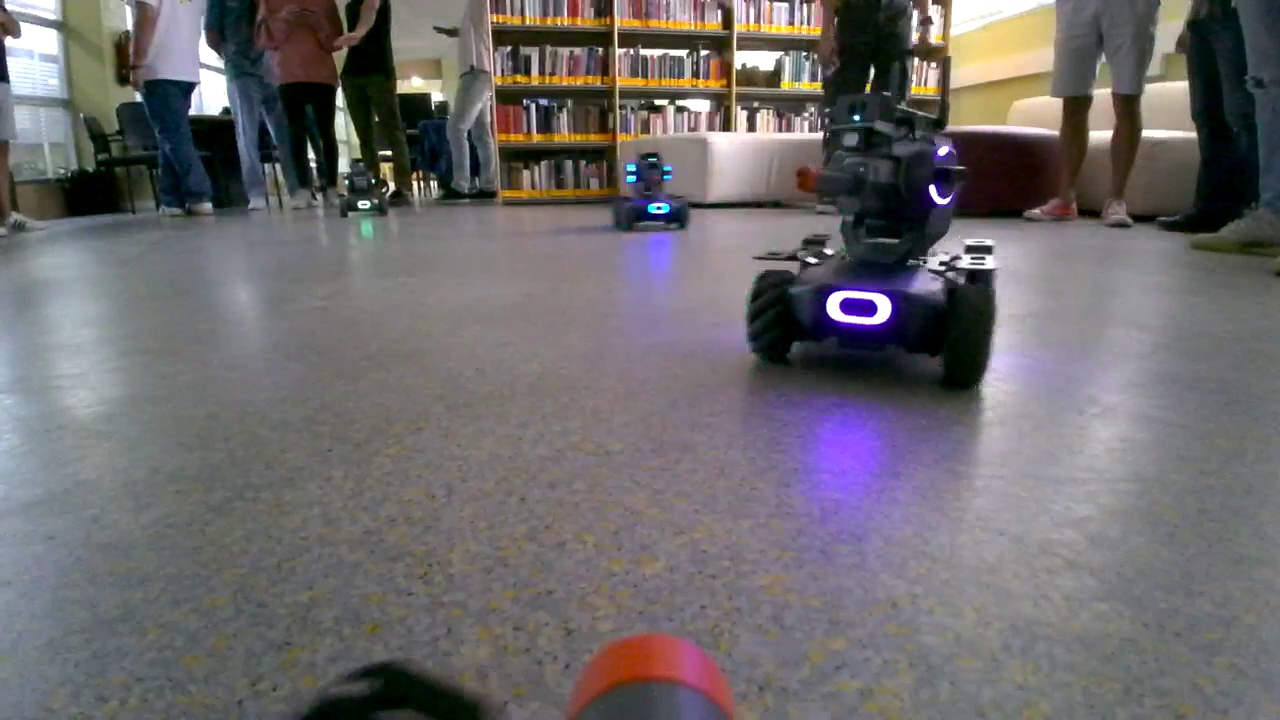robot: (741, 91, 999, 393), (610, 150, 694, 232), (338, 157, 392, 222)
